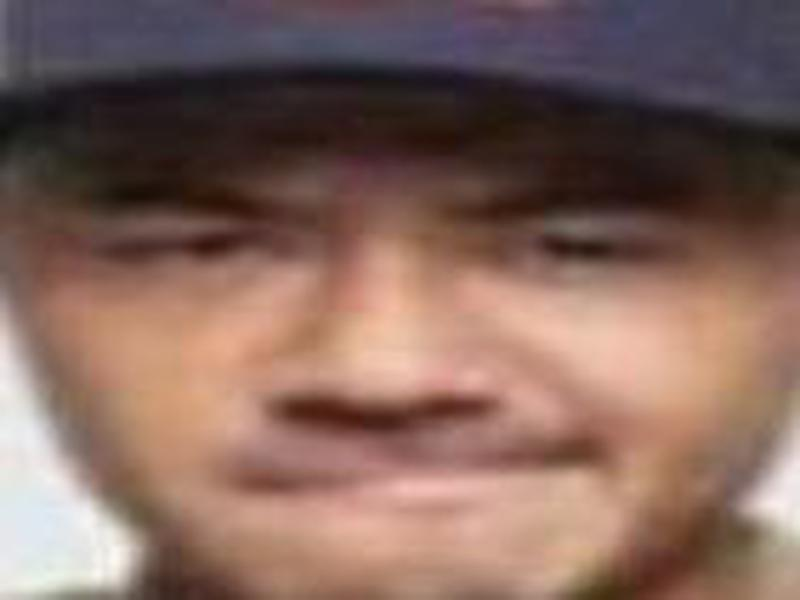without_mask: (4, 118, 800, 591)
